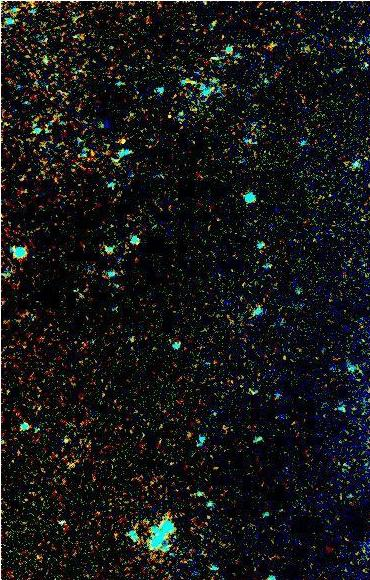star: (109, 125, 139, 155)
